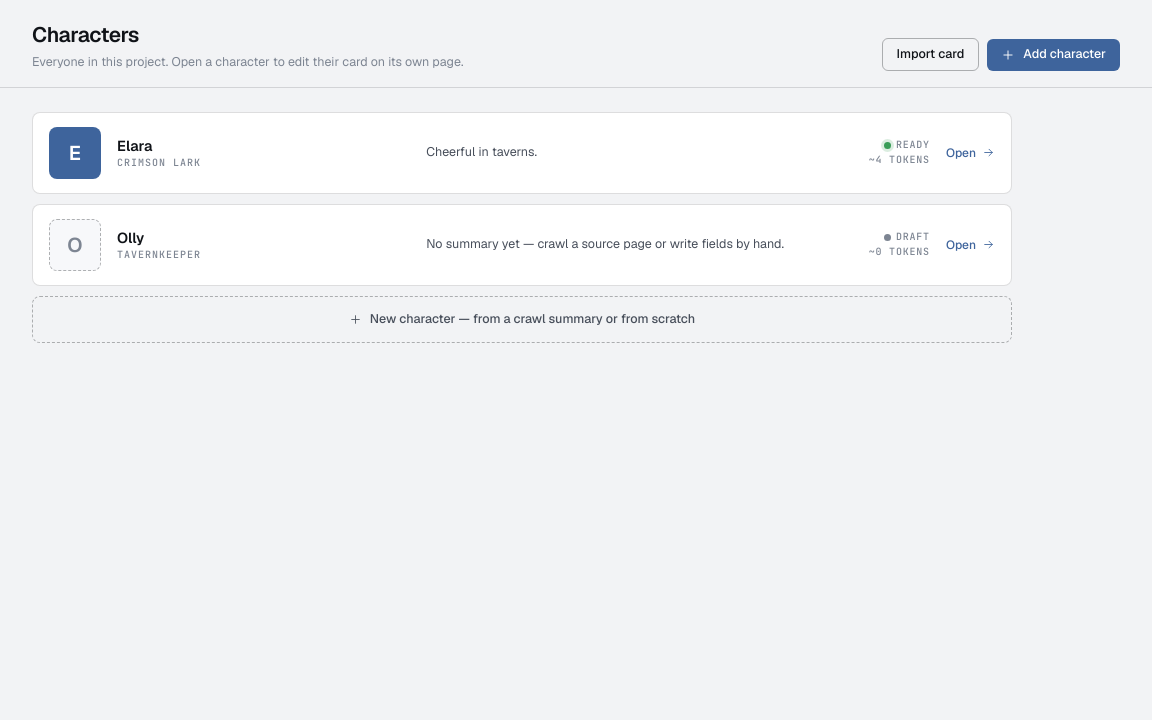
Test: CharactersScreen › shows a toast when opening fails
The width and height of the screenshot is (1152, 720).
Click the text "Elara" at (135, 146), box left=117, top=136, right=152, bottom=155
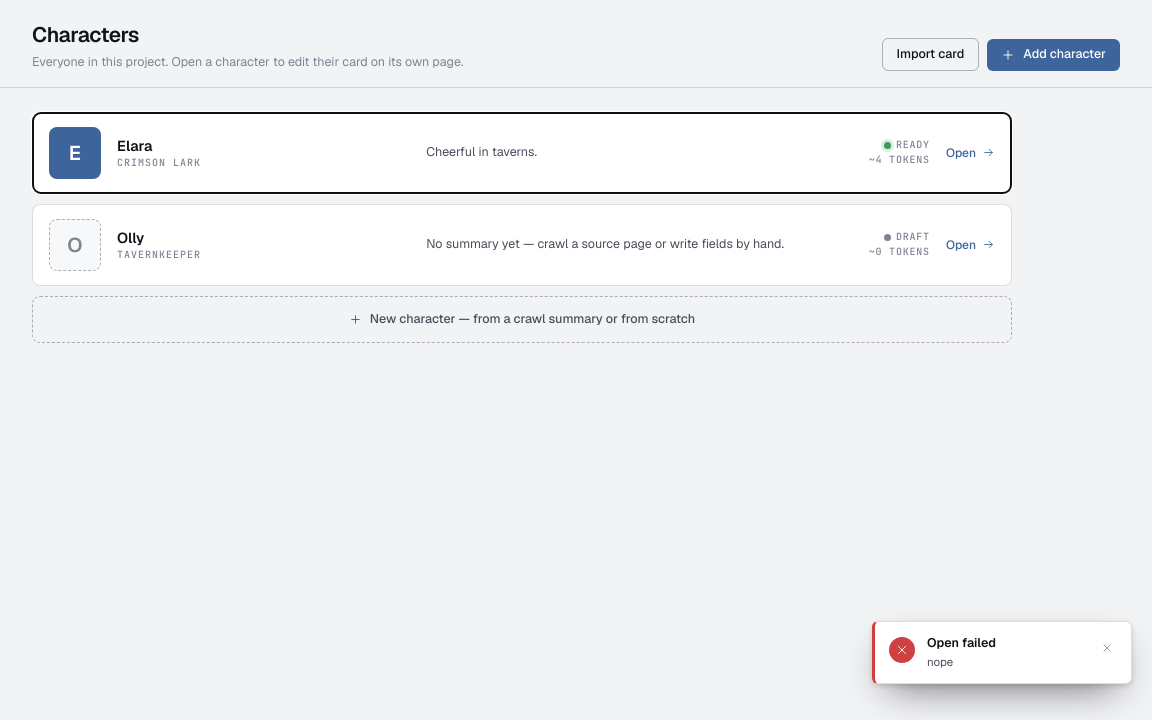
Expected: the text "Open failed" is shown, left=927, top=634, right=996, bottom=651
